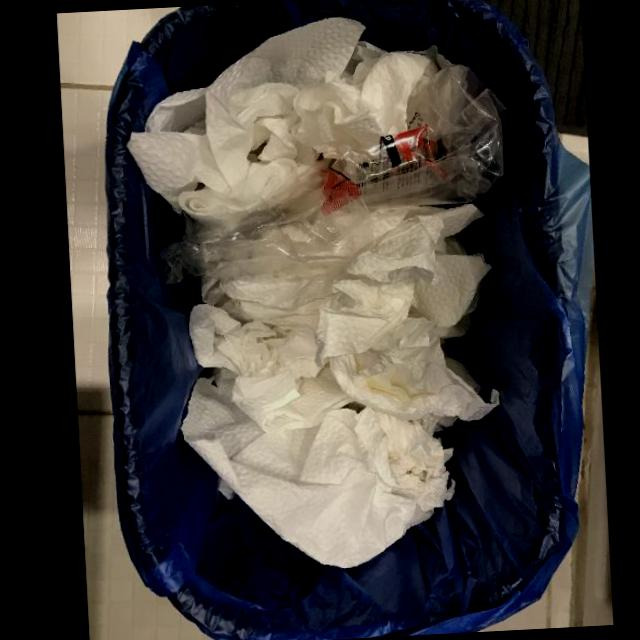giay: (125, 16, 437, 221), (180, 367, 456, 568), (315, 202, 500, 421), (189, 274, 355, 429)
tui_ni_long: (158, 57, 503, 284)
